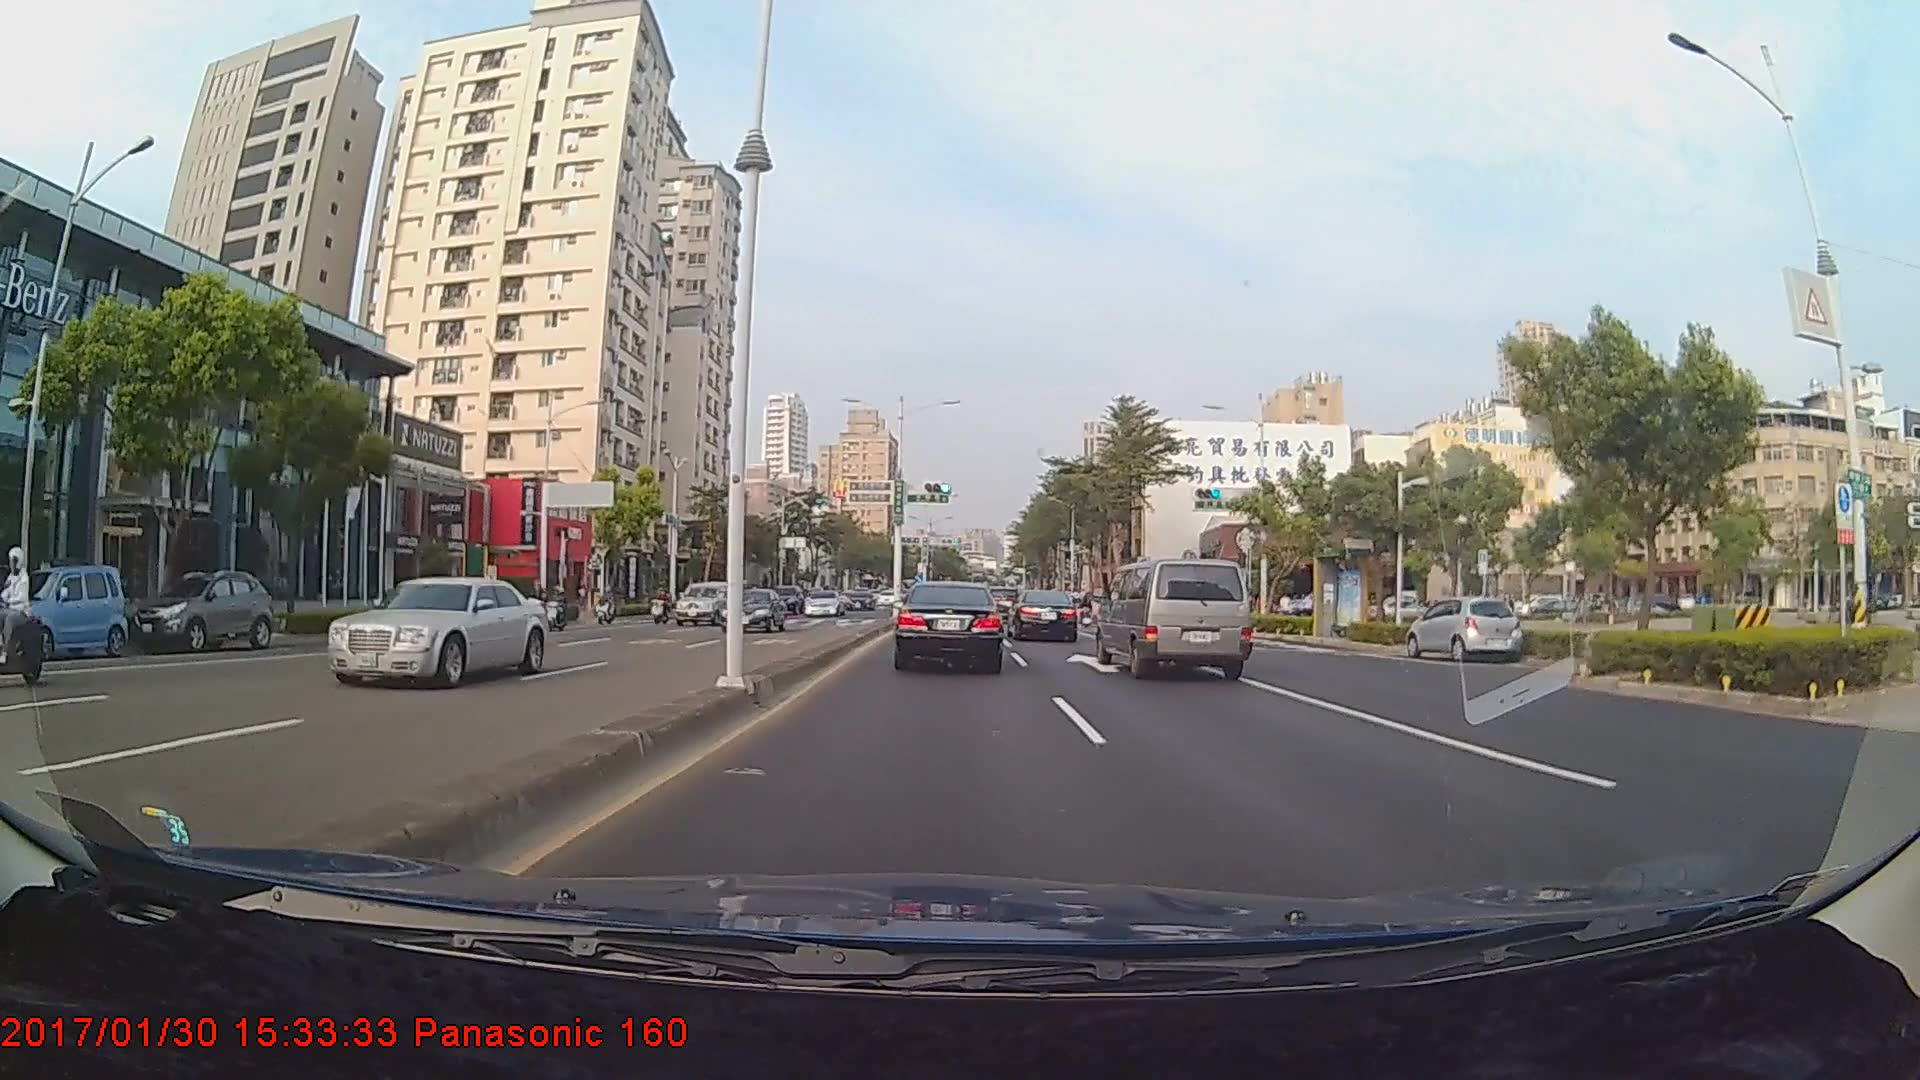rider: (1, 545, 53, 685)
vehicle: (319, 575, 546, 688), (1095, 553, 1254, 681), (0, 562, 129, 662), (131, 566, 275, 652), (894, 579, 1005, 671), (1407, 596, 1520, 663), (1005, 588, 1079, 643), (673, 579, 734, 626), (731, 584, 795, 628), (803, 587, 846, 615)
